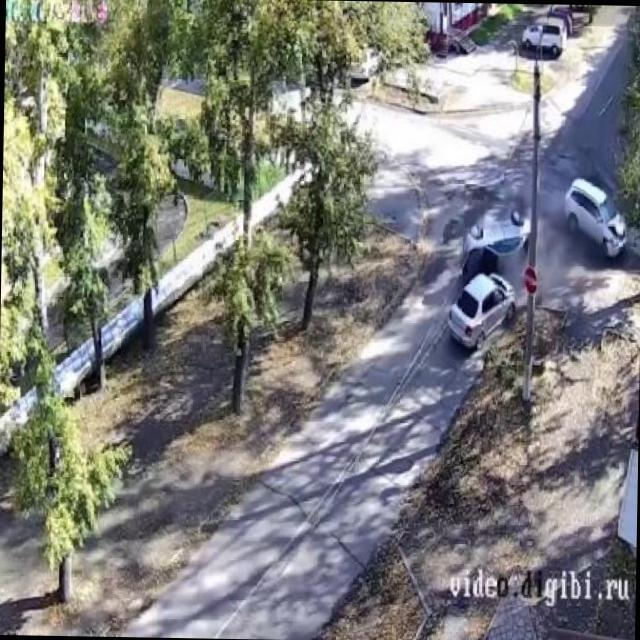accident: (454, 246, 528, 306), (460, 209, 521, 273)
